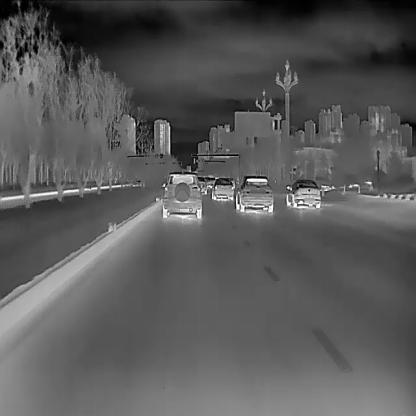car: (160, 170, 202, 218), (235, 174, 273, 212), (285, 179, 320, 207), (210, 176, 233, 199), (197, 175, 207, 193), (204, 176, 214, 186)
